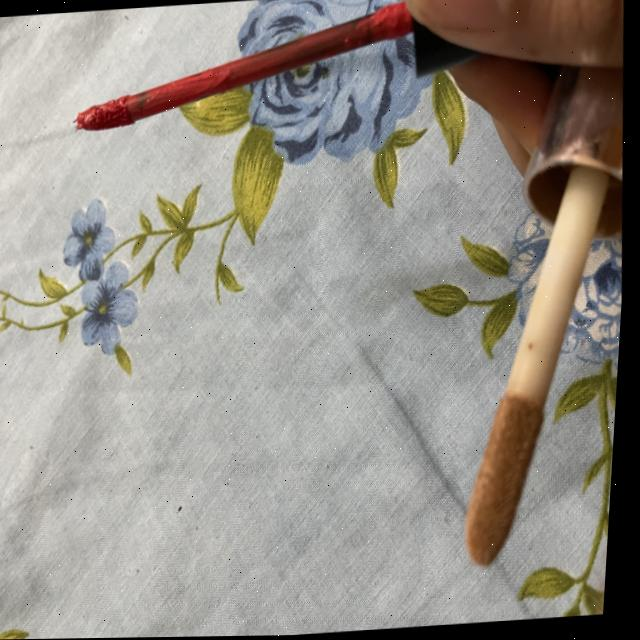concealer: (413, 74, 636, 599)
lip gloss: (53, 0, 444, 185)
